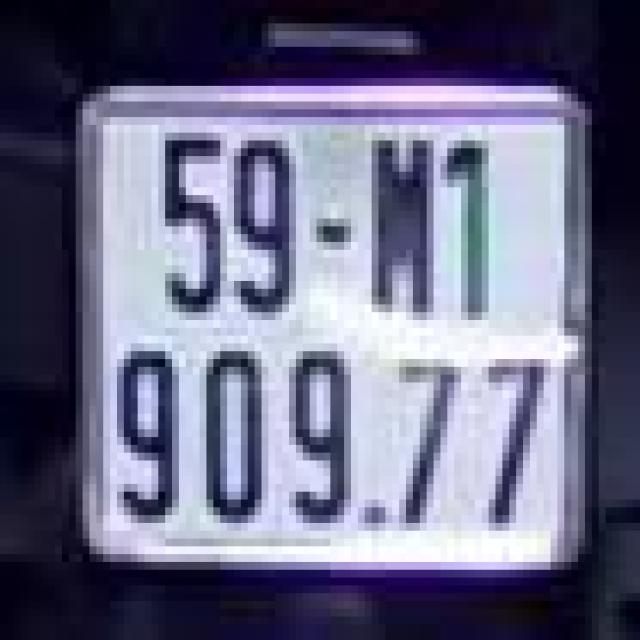0: (196, 336, 272, 530)
1: (441, 132, 516, 336)
5: (151, 129, 234, 324)
7: (471, 347, 561, 535), (392, 351, 461, 531)
9: (103, 340, 186, 534), (231, 132, 306, 328), (279, 344, 354, 538)
M: (358, 125, 440, 328)
